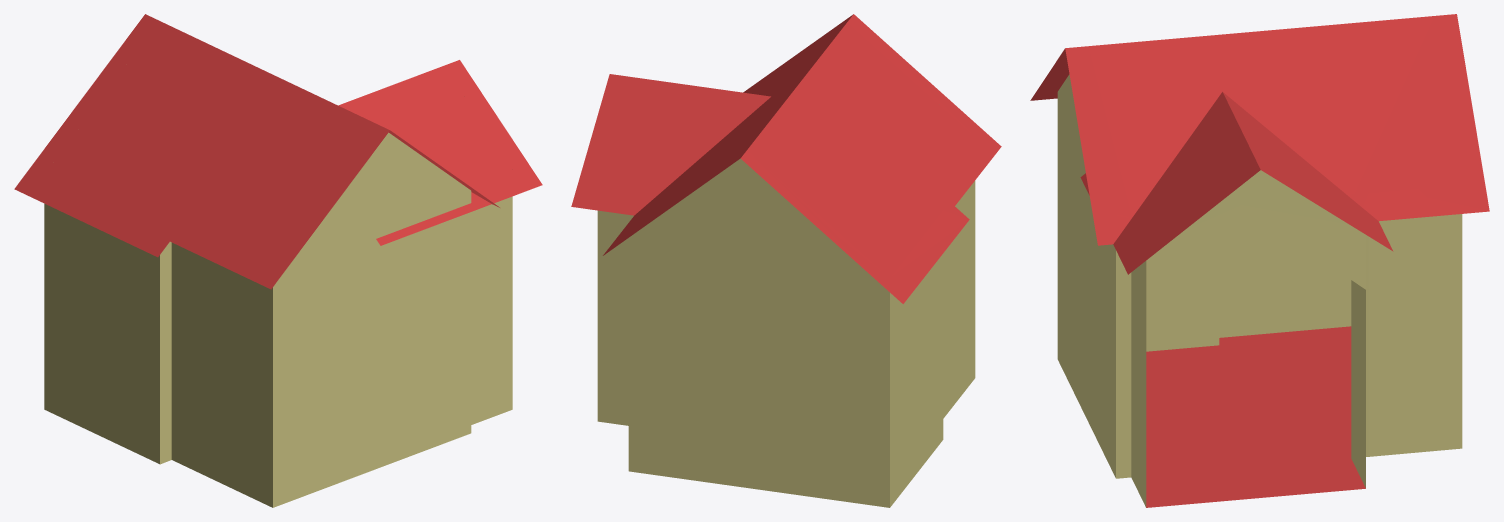
3 views of the same model, side by side, from view 1: azimuth 30°, elevation 25°; view 2: azimuth 150°, elevation 25°; view 3: azimuth 270°, elevation 25° (orthographic). The views are drawn at different scales.
Size of the model in its own units: 15.96 by 14.82 by 13.35.
